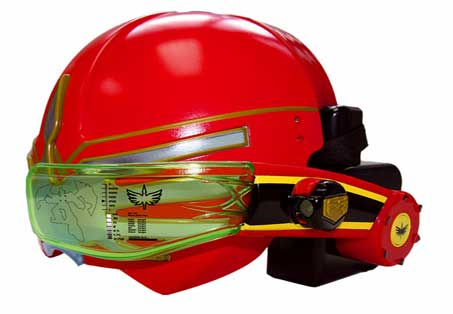helmet: (56, 24, 398, 279)
